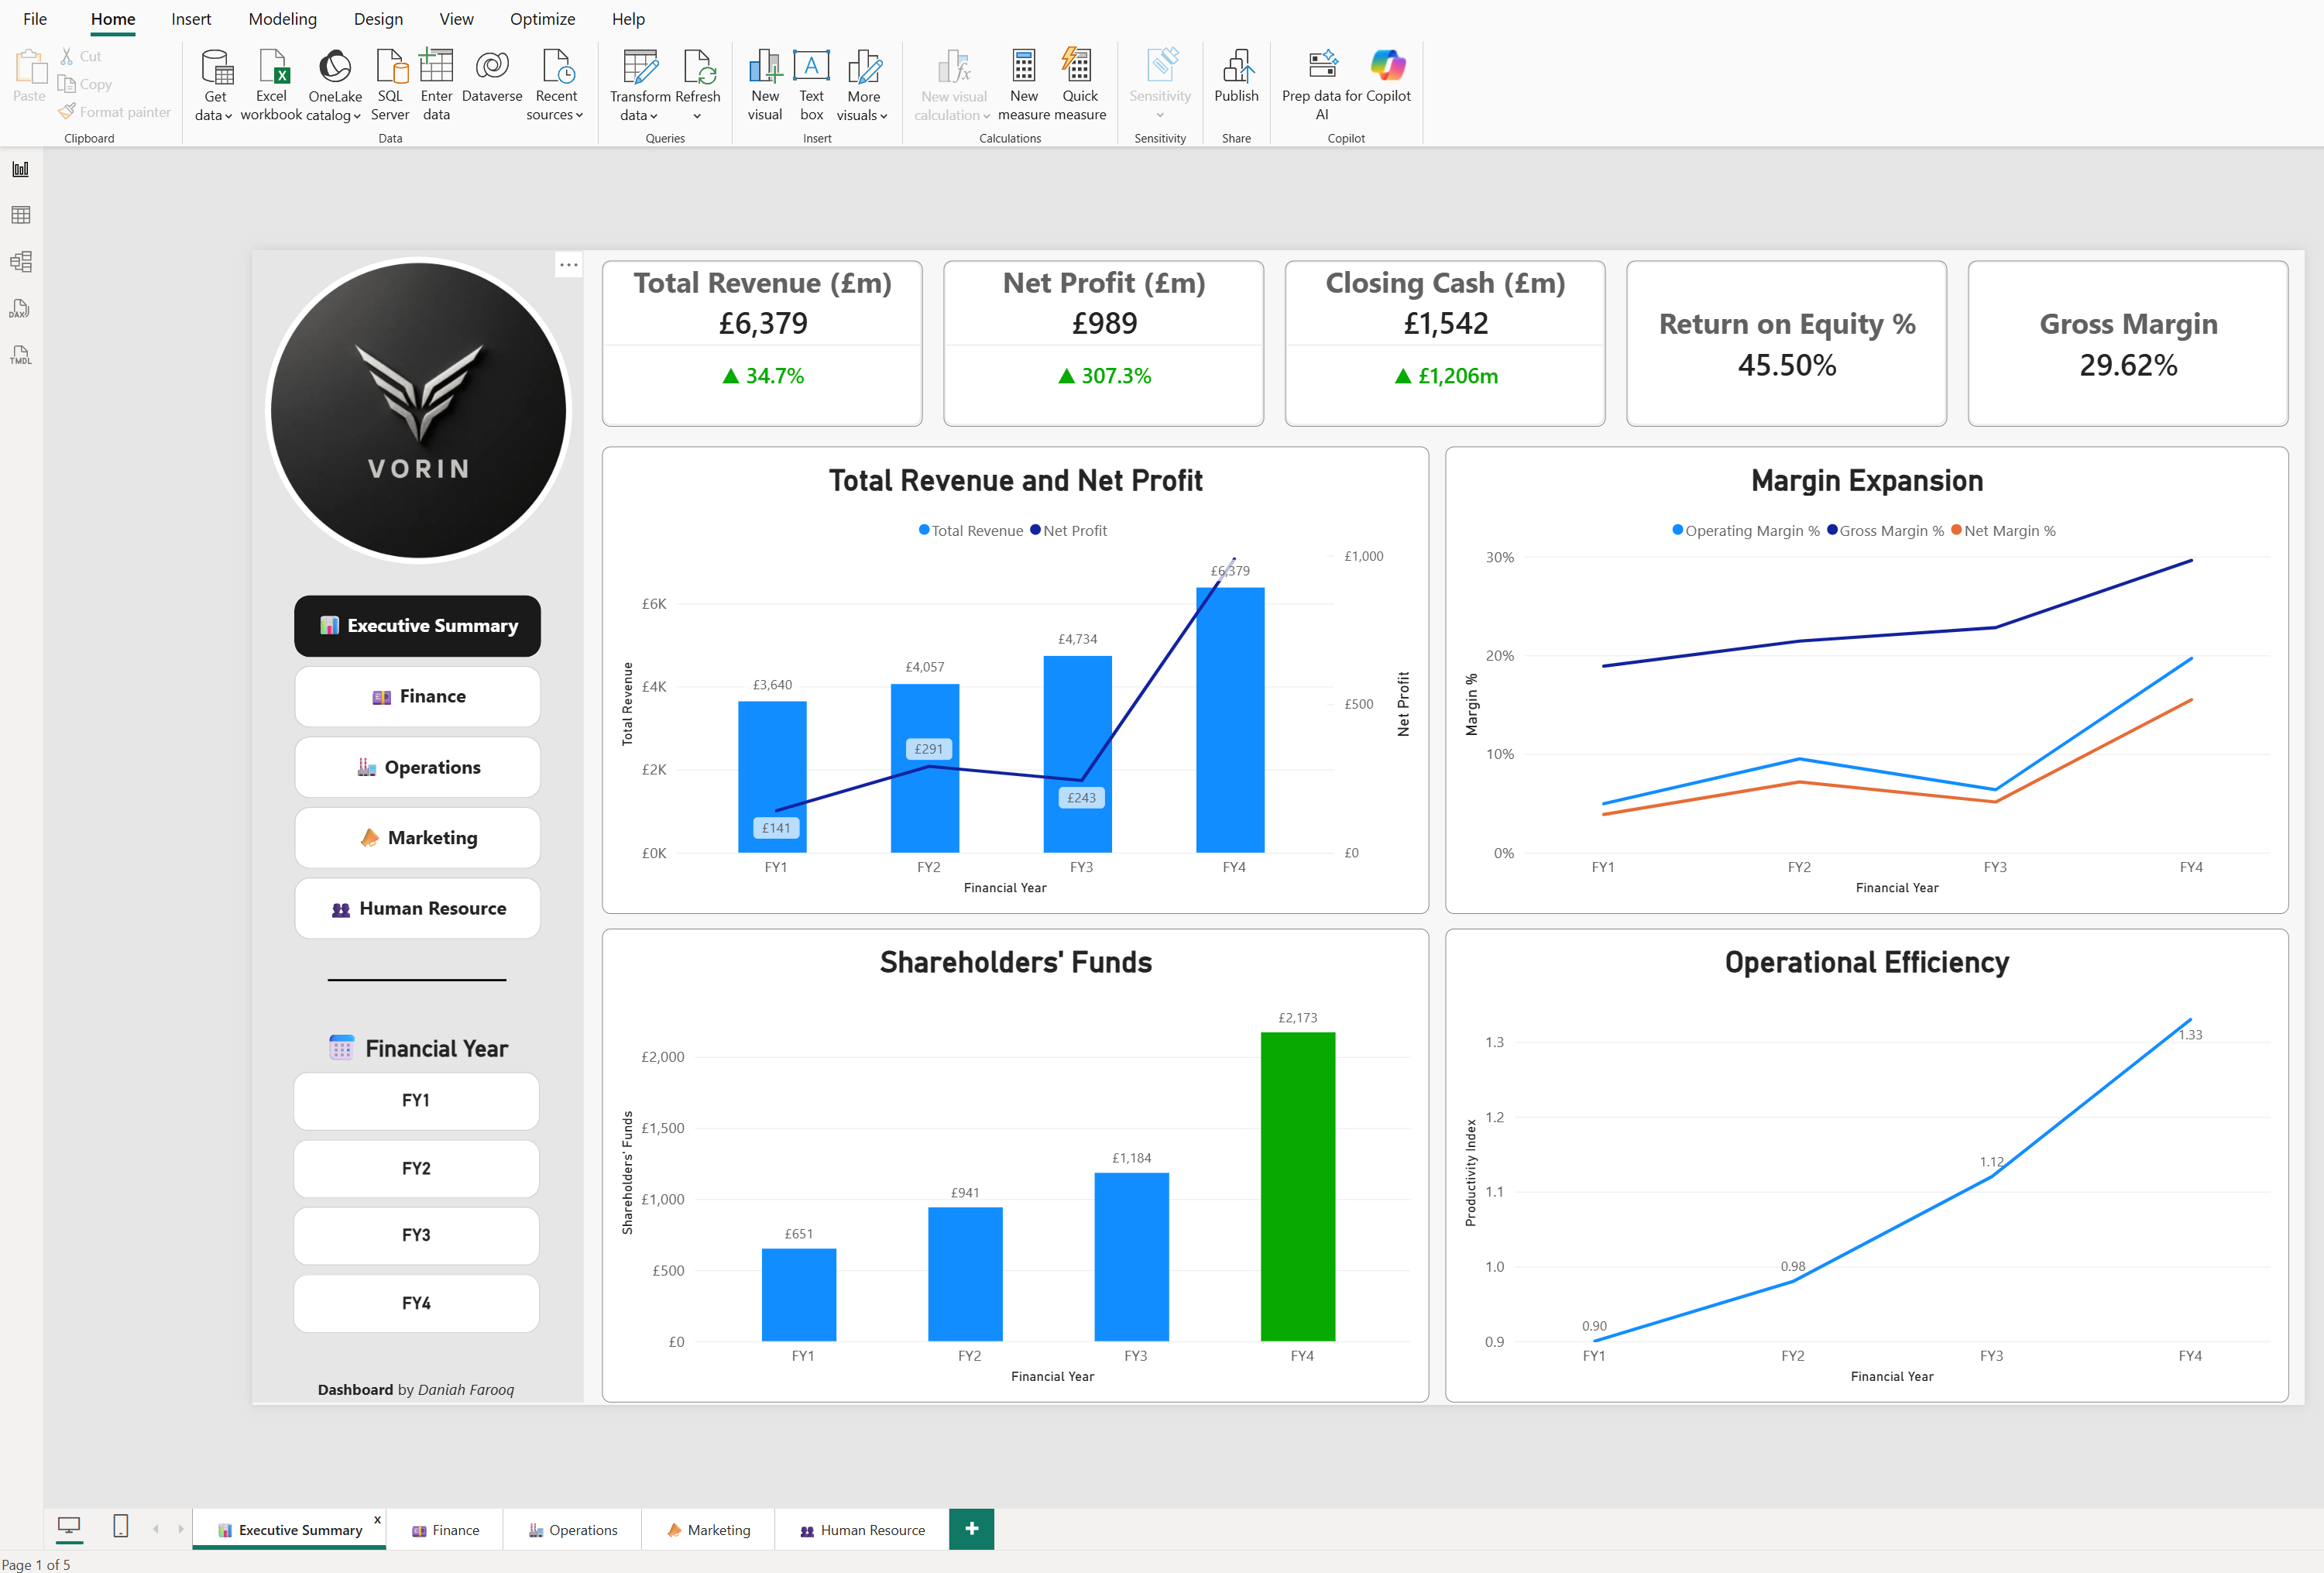

The dashboard page shown, as its layout file describes it:
{"tool":"powerbi","page":{"name":"📊 Executive Summary","canvas":[1920,1080],"ordinal":0},"visuals":[{"type":"cardVisual","fields":{"Data":["_Measures.Revenue (Latest)"]},"box":[327.4,9.3,300,155],"z":0},{"type":"cardVisual","fields":{"Data":["_Measures.Net Profit (Latest)"]},"box":[646.8,9.3,300,155],"z":1000},{"type":"cardVisual","fields":{"Data":["_Measures.Gross Margin (Latest)"]},"box":[1605,9.3,300,155],"z":2000},{"type":"cardVisual","fields":{"Data":["_Measures.ROE (Latest)"]},"box":[1285.6,9.3,300,155],"z":3000},{"type":"cardVisual","fields":{"Data":["_Measures.Closing Cash (Latest)"]},"box":[966.2,9.3,300,155],"z":4000},{"type":"lineStackedColumnComboChart","title":"Total Revenue and Net Profit","fields":{"Category":["Rounds.RoundLabel"],"Y":["_Measures.Total Revenue"],"Y2":["_Measures.Net Profit"]},"box":[327,184,774,437],"z":5000},{"type":"lineChart","title":"Margin Expansion","fields":{"Category":["Rounds.RoundLabel"],"Y":["_Measures.Operating Margin %","_Measures.Gross Margin %","_Measures.Net Margin %"]},"box":[1116,184,789,437],"z":6000},{"type":"shape","box":[0,0,310.2,1077.9],"z":7000},{"type":"image","box":[5.4,0,300,300],"z":8000},{"type":"pageNavigator","box":[38.8,322.6,231.1,322.6],"z":9000},{"type":"clusteredColumnChart","title":"Shareholders'' Funds ","fields":{"Category":["Rounds.Financial Year"],"Y":["_Measures.Shareholders Funds"]},"box":[327,635,774,443],"z":10000},{"type":"lineChart","title":"Operational Efficiency","fields":{"Category":["Rounds.Financial Year"],"Y":["_Measures.Productivity Index"]},"box":[1116,635,789,443],"z":11000},{"type":"textbox","box":[58,1055,191,25],"z":12000},{"type":"advancedSlicerVisual","title":"📅 Financial Year","fields":{"Values":["Rounds.RoundLabel"]},"box":[38,728,231.1,286.9],"z":13000},{"type":"shape","box":[71,581,167,203],"z":14000}]}

Visuals, with their boxes on the page's 1920x1080 design canvas (x1, y1, x2, y2). These are canvas units, not pixel positions in the 2324x1573 screenshot, which may show the page scaled, cropped or inside an application window:
cardVisual - _Measures.Revenue (Latest): 327,9,627,164
cardVisual - _Measures.Net Profit (Latest): 647,9,947,164
cardVisual - _Measures.Gross Margin (Latest): 1605,9,1905,164
cardVisual - _Measures.ROE (Latest): 1286,9,1586,164
cardVisual - _Measures.Closing Cash (Latest): 966,9,1266,164
"Total Revenue and Net Profit" lineStackedColumnComboChart: 327,184,1101,621
"Margin Expansion" lineChart: 1116,184,1905,621
shape: 0,0,310,1078
image: 5,0,305,300
pageNavigator: 39,323,270,645
"Shareholders'' Funds " clusteredColumnChart: 327,635,1101,1078
"Operational Efficiency" lineChart: 1116,635,1905,1078
textbox: 58,1055,249,1080
"📅 Financial Year" advancedSlicerVisual: 38,728,269,1015
shape: 71,581,238,784
